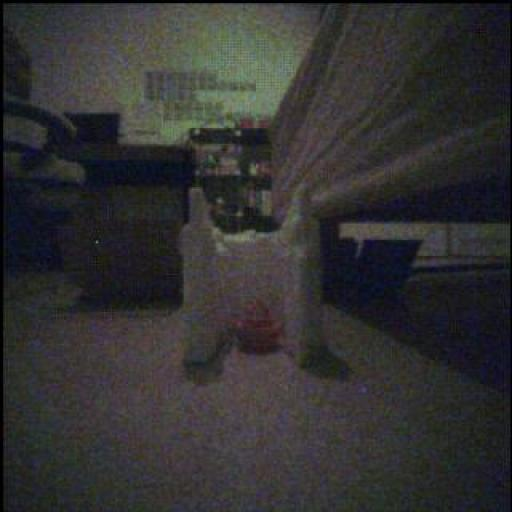basket: (238, 304, 283, 355)
